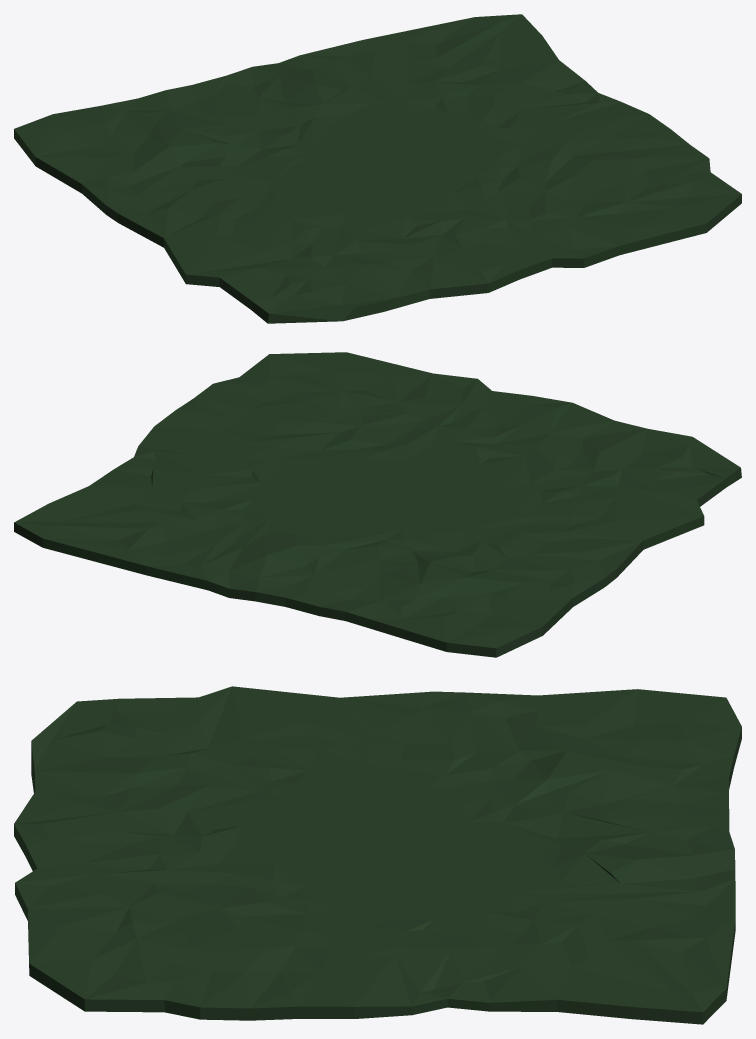
Rendered from gropund utama.fbx.
The picture shows the model from 3 angles, top to bottom: view 1: azimuth 30°, elevation 25°; view 2: azimuth 150°, elevation 25°; view 3: azimuth 270°, elevation 25°; orthographic projection. The views are drawn at different scales.
Visible parts, largest first — view 1: Ground_Mesh; view 2: Ground_Mesh; view 3: Ground_Mesh.
Part boxes in pixels (x1,y1,x2,y2): Ground_Mesh: (14, 14, 741, 323); Ground_Mesh: (14, 352, 741, 657); Ground_Mesh: (14, 686, 741, 1024).
Bounding box in the file's own units: 6932 × 209 × 6530.
